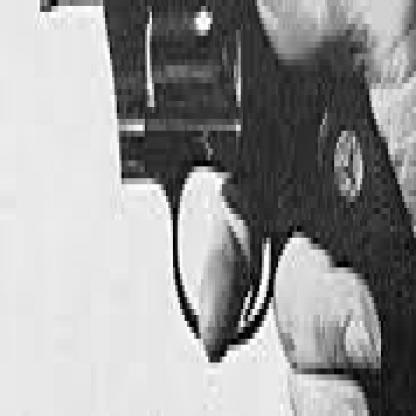gun: (0, 0, 414, 410)
